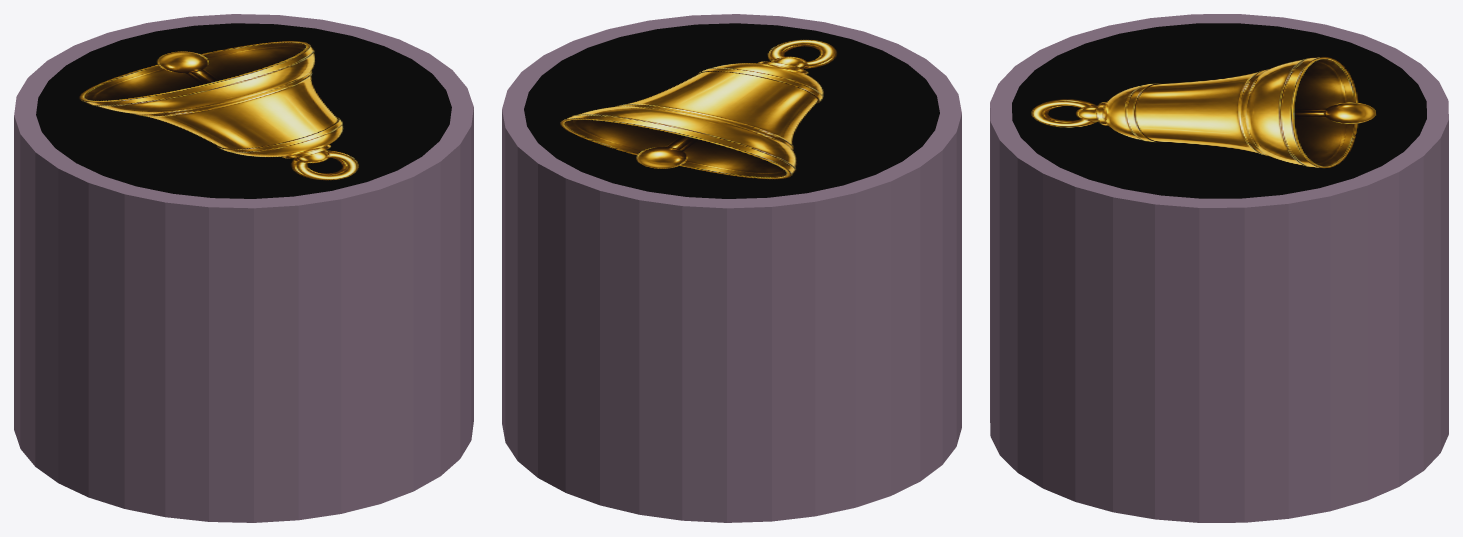
The model's file is SummonTrap.obj.
3 renders of one model, left to right at view 1: azimuth 30°, elevation 25°; view 2: azimuth 150°, elevation 25°; view 3: azimuth 270°, elevation 25°, orthographic.
Parts seen in each view (by area): view 1: 円; view 2: 円; view 3: 円.
Boxes of the visible parts, <box> form: 円: <box>14,14,473,522</box>; 円: <box>502,14,961,522</box>; 円: <box>990,14,1448,522</box>.
Size of the model in its own units: 1.99 by 1.51 by 1.99.
Materials: 2 (1 with a texture image).
